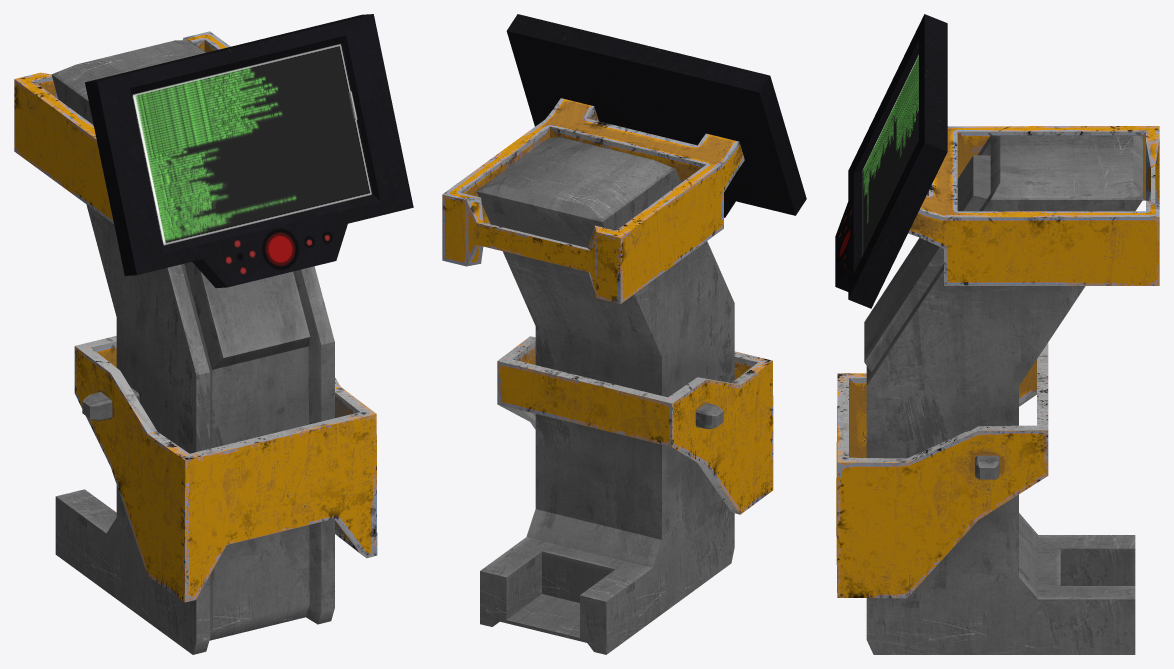
The model's file is kyecorp_console.glb.
3 views of the same model, side by side, from view 1: azimuth 30°, elevation 25°; view 2: azimuth 150°, elevation 25°; view 3: azimuth 270°, elevation 25° (orthographic). The views are drawn at different scales.
Parts seen in each view (by area): view 1: screen_low, middle_low, bar_low, back_low, support_low; view 2: middle_low, screen_low, back_low, bar_low, support_low; view 3: middle_low, bar_low, back_low, screen_low, support_low.
Boxes of the visible parts, x1,y1,x2,y2 form: screen_low: [85, 14, 413, 288]; middle_low: [51, 40, 334, 654]; bar_low: [74, 335, 377, 602]; back_low: [14, 31, 230, 223]; support_low: [82, 387, 139, 420]; middle_low: [476, 137, 734, 654]; screen_low: [506, 14, 806, 217]; back_low: [442, 98, 744, 303]; bar_low: [497, 336, 773, 514]; support_low: [696, 403, 723, 429]; middle_low: [864, 135, 1142, 654]; bar_low: [836, 342, 1048, 598]; back_low: [908, 126, 1159, 285]; screen_low: [835, 14, 947, 308]; support_low: [975, 455, 999, 479].
Bounding box in the file's own units: 226 × 445 × 240.
1 material, 1 textured.
